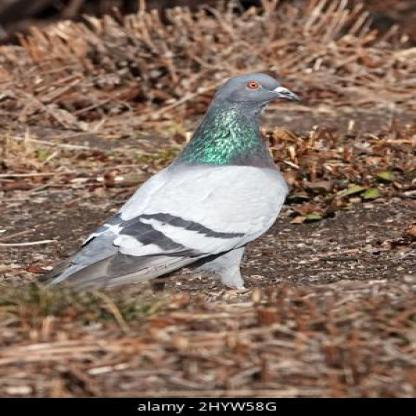Rock Pigeon: (57, 73, 306, 293)
